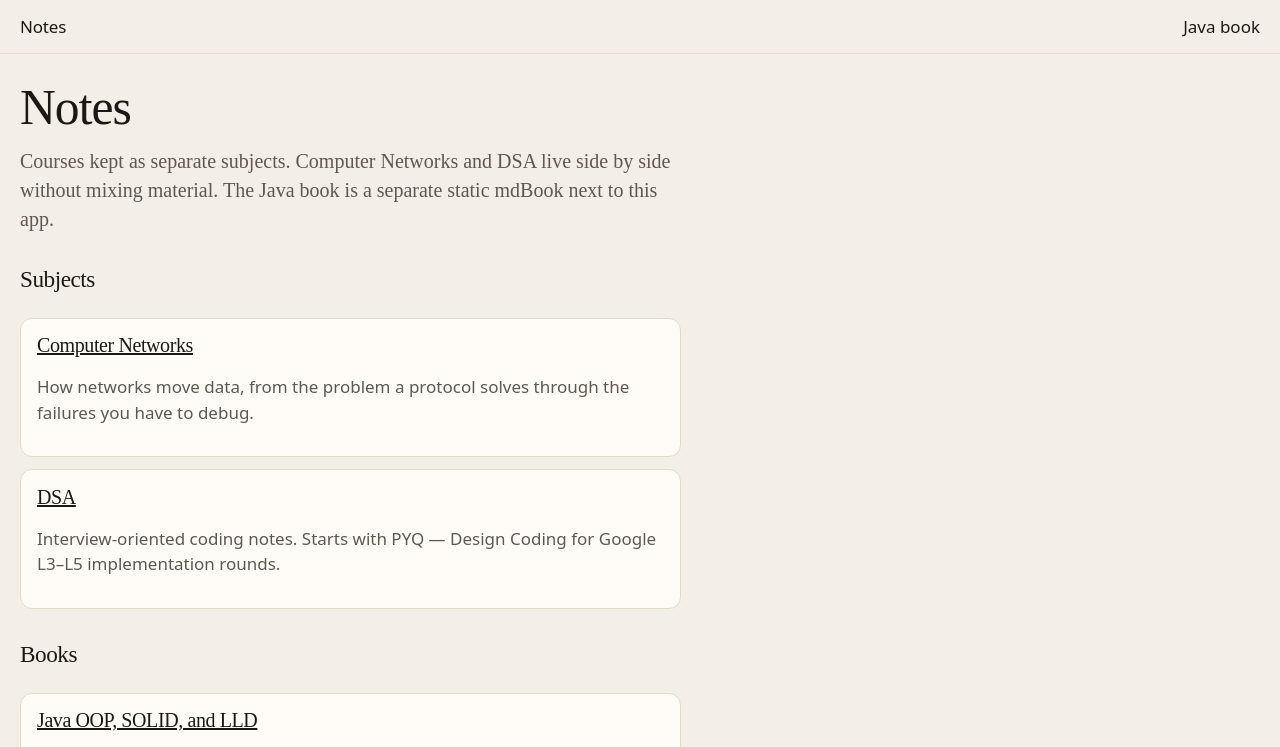
Test: application shell › shows the curriculum and opens a written troubleshooting lesson
The width and height of the screenshot is (1280, 747).
Expected: the heading "Notes" is shown, [20,80,131,135]
Click the link "Computer Networks" at (115, 345), box [37,334,193,356]
(page scrolled)
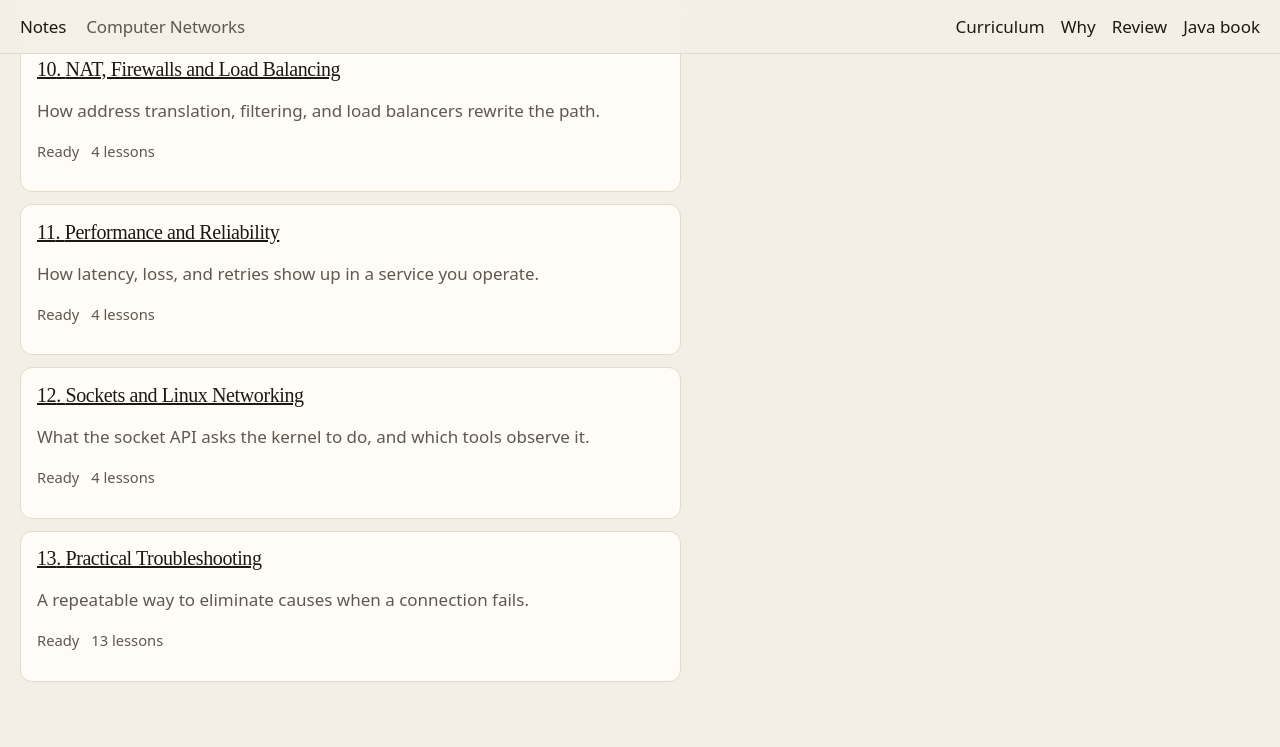
Click the link "13. Practical Troubleshooting" at (47, 558), box [37,547,262,569]
(page scrolled)
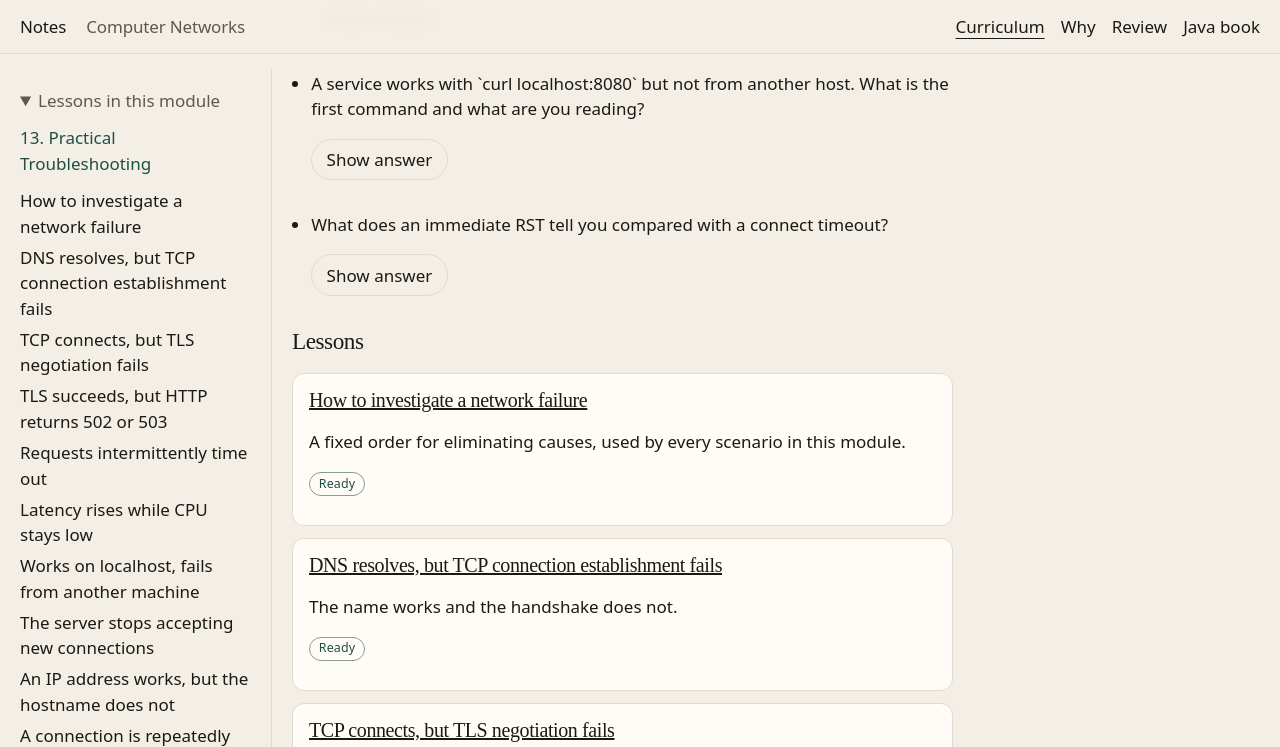
Click the 2nd link "How to investigate a network failure" at (448, 400), box [309,389,587,411]
(page scrolled)
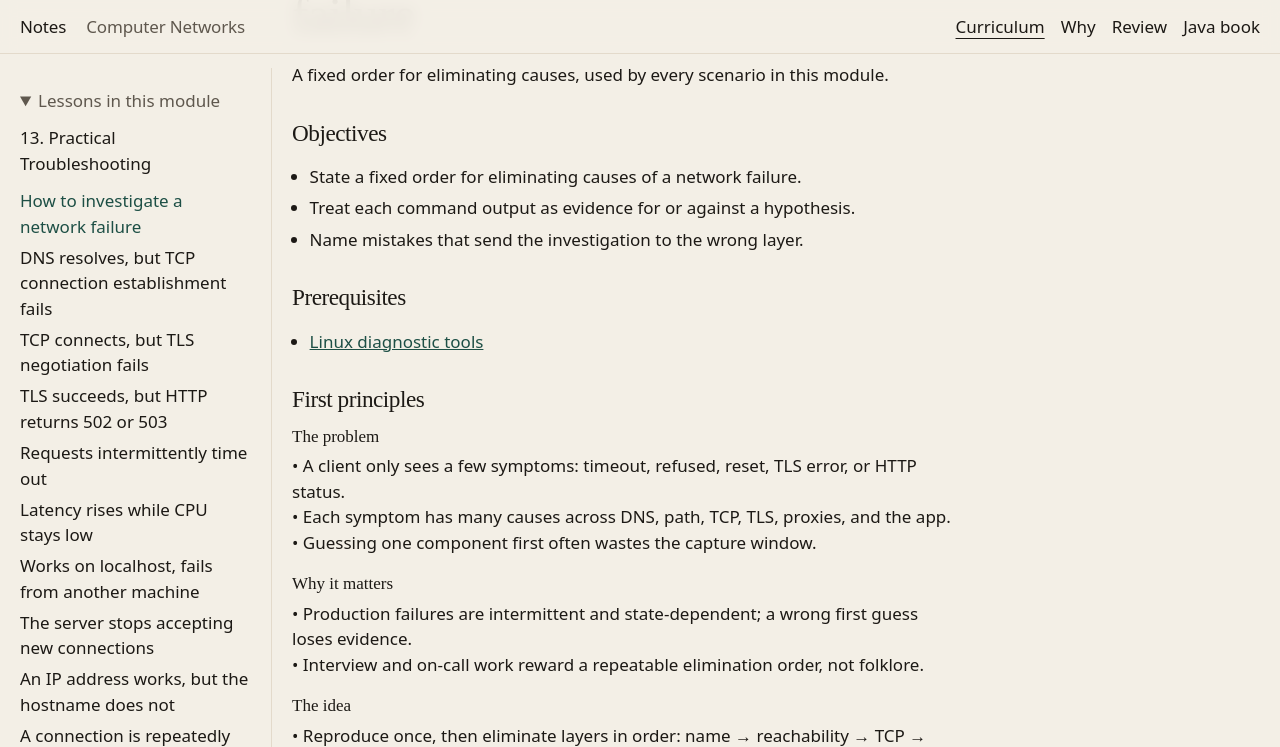
Result: the heading "First principles" is shown at [292,386,424,412]
